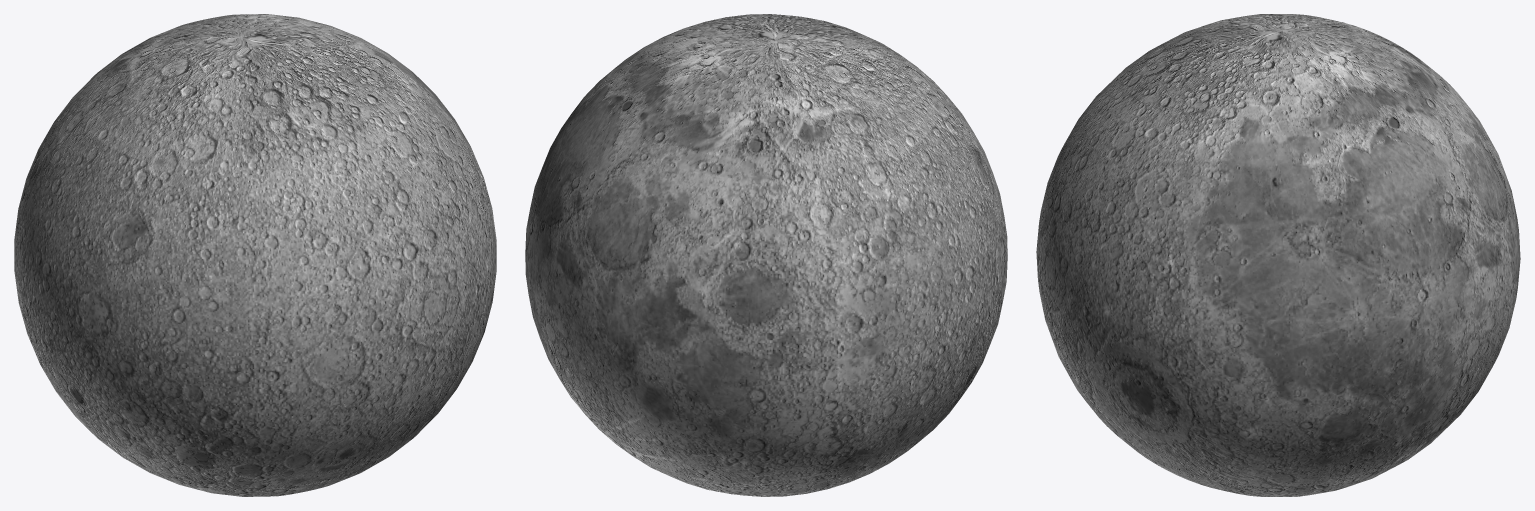
The model's file is moon.obj.
The picture shows the model from 3 angles, left to right: view 1: azimuth 30°, elevation 25°; view 2: azimuth 150°, elevation 25°; view 3: azimuth 270°, elevation 25°; orthographic projection.
Visible parts, largest first — view 1: Earth.002_ID172; view 2: Earth.002_ID172; view 3: Earth.002_ID172.
Part boxes in pixels (left/top/right/bottom): Earth.002_ID172: left=14, top=14, right=496, bottom=496; Earth.002_ID172: left=525, top=14, right=1007, bottom=496; Earth.002_ID172: left=1036, top=14, right=1520, bottom=496.
Size of the model in its own units: 0.3479 by 0.3478 by 0.3478.
Materials: 1 (1 with a texture image).
